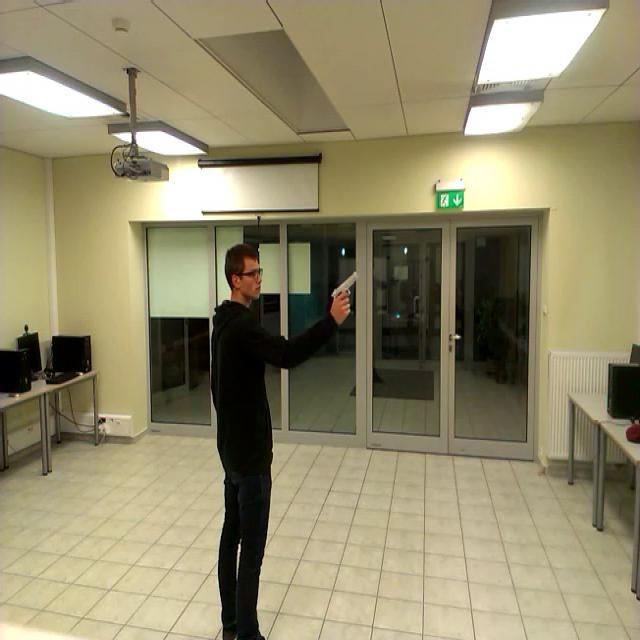Gun: (330, 270, 358, 311)
